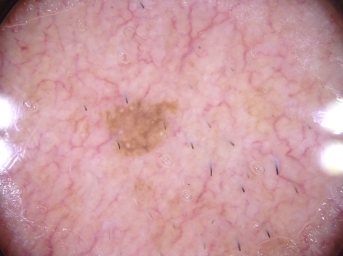seborrheic keratosis: (87, 83, 200, 169)
